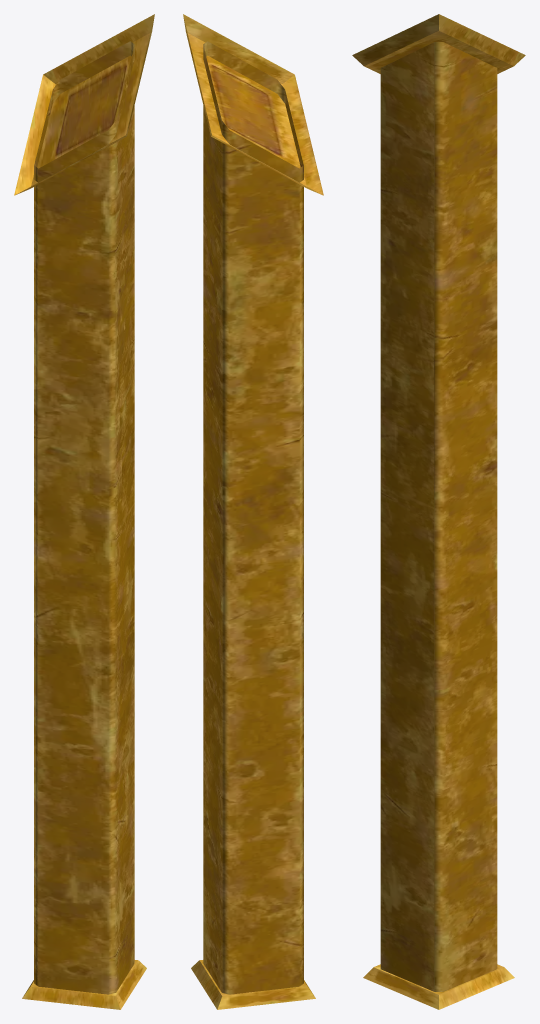
3 renders of one model, left to right at view 1: azimuth 30°, elevation 25°; view 2: azimuth 150°, elevation 25°; view 3: azimuth 270°, elevation 25°, orthographic. The views are drawn at different scales.
Parts seen in each view (by area): view 1: SM_Dragonkin_Pipe_4m_02_v1_LOD0; view 2: SM_Dragonkin_Pipe_4m_02_v1_LOD0; view 3: SM_Dragonkin_Pipe_4m_02_v1_LOD0.
Boxes of the visible parts, x1,y1,x2,y2 form: SM_Dragonkin_Pipe_4m_02_v1_LOD0: (14,14,154,1009); SM_Dragonkin_Pipe_4m_02_v1_LOD0: (183,14,323,1009); SM_Dragonkin_Pipe_4m_02_v1_LOD0: (352,14,525,1009).
Size of the model in its own units: 0.6711 by 4.34 by 0.6836.
1 material, 1 textured.
